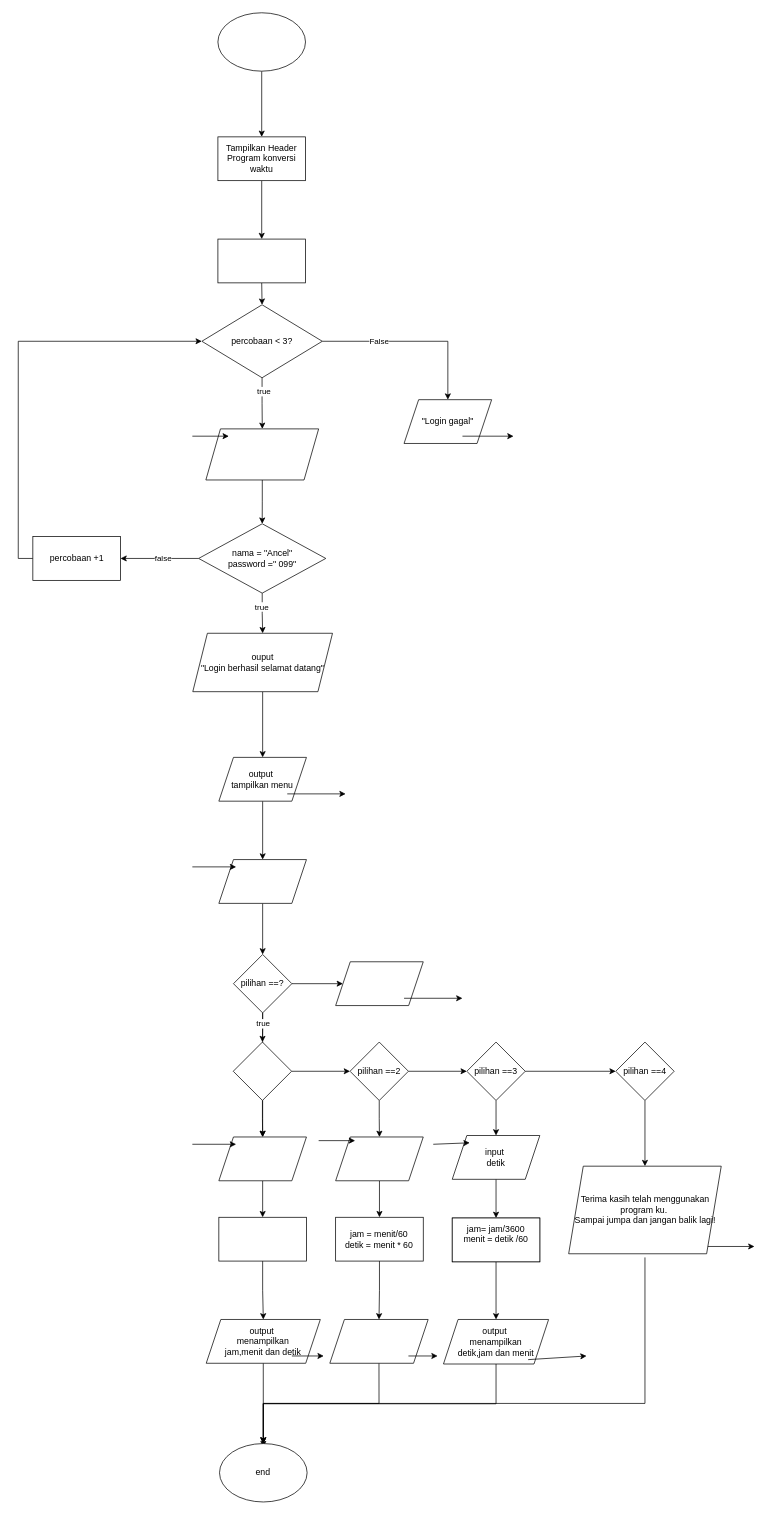
The diagram is 773 pixels wide and 1515 high, and some of its shapes have lost their labels. The centre of each missing label's shape, as x and y in pixels:
"input jam" goes at point (262, 1158).
"input menit" goes at point (379, 1158).
"input pilihan" goes at point (262, 881).
"masukan name masukan password" goes at point (262, 454).
"menit =jam *60 jam = jam * 3600" goes at point (262, 1239).
"output menampilkan menit,jam dan detik" goes at point (378, 1341).
"output pilihan tidak valid" goes at point (379, 983).
"percobaan = 0" goes at point (261, 260).
"pilihan ==1" goes at point (262, 1070).
"start" goes at point (261, 41).
